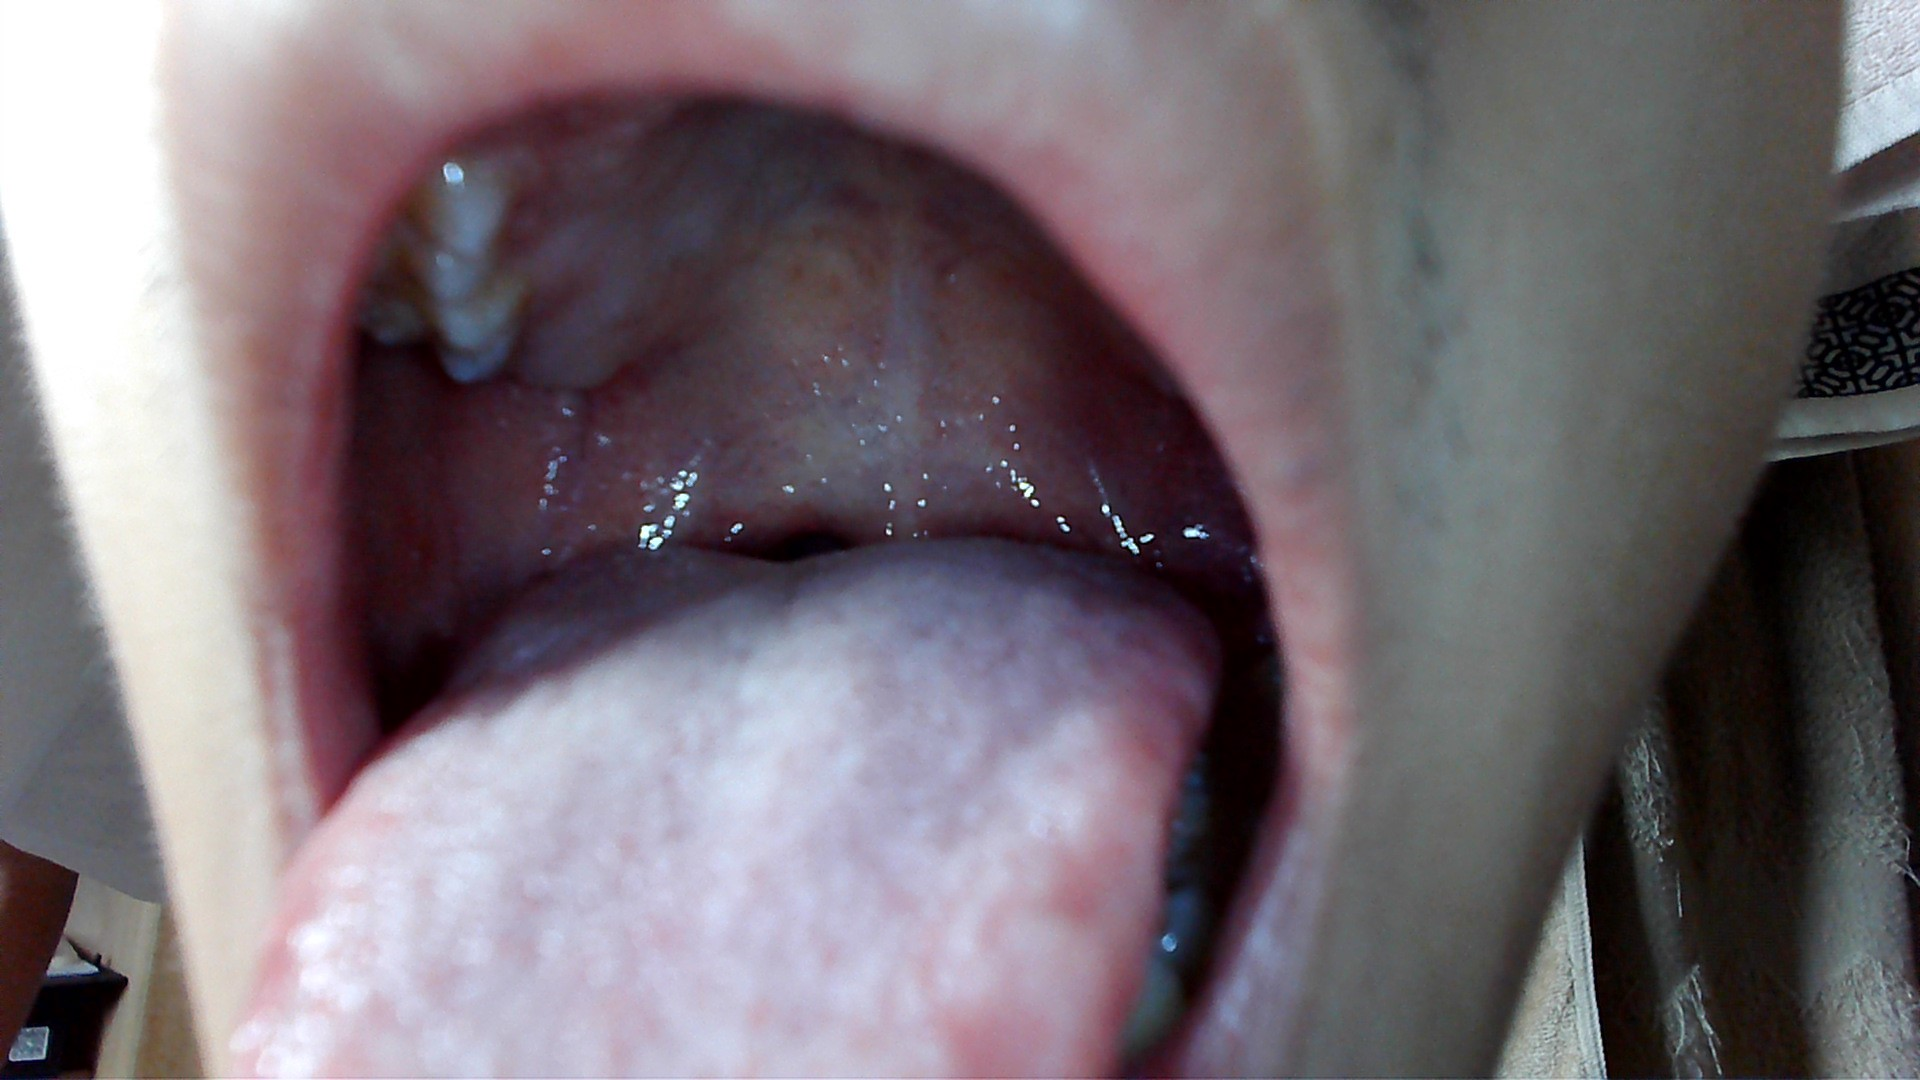throat: (698, 456, 858, 556)
